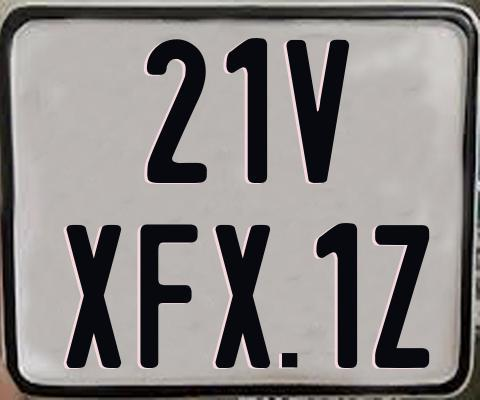1: (314, 222, 357, 372), (225, 36, 266, 185)
2: (145, 39, 210, 184)
F: (140, 221, 199, 367)
V: (283, 37, 348, 185)
X: (213, 225, 268, 374), (65, 222, 121, 366)
Z: (372, 223, 430, 366)
